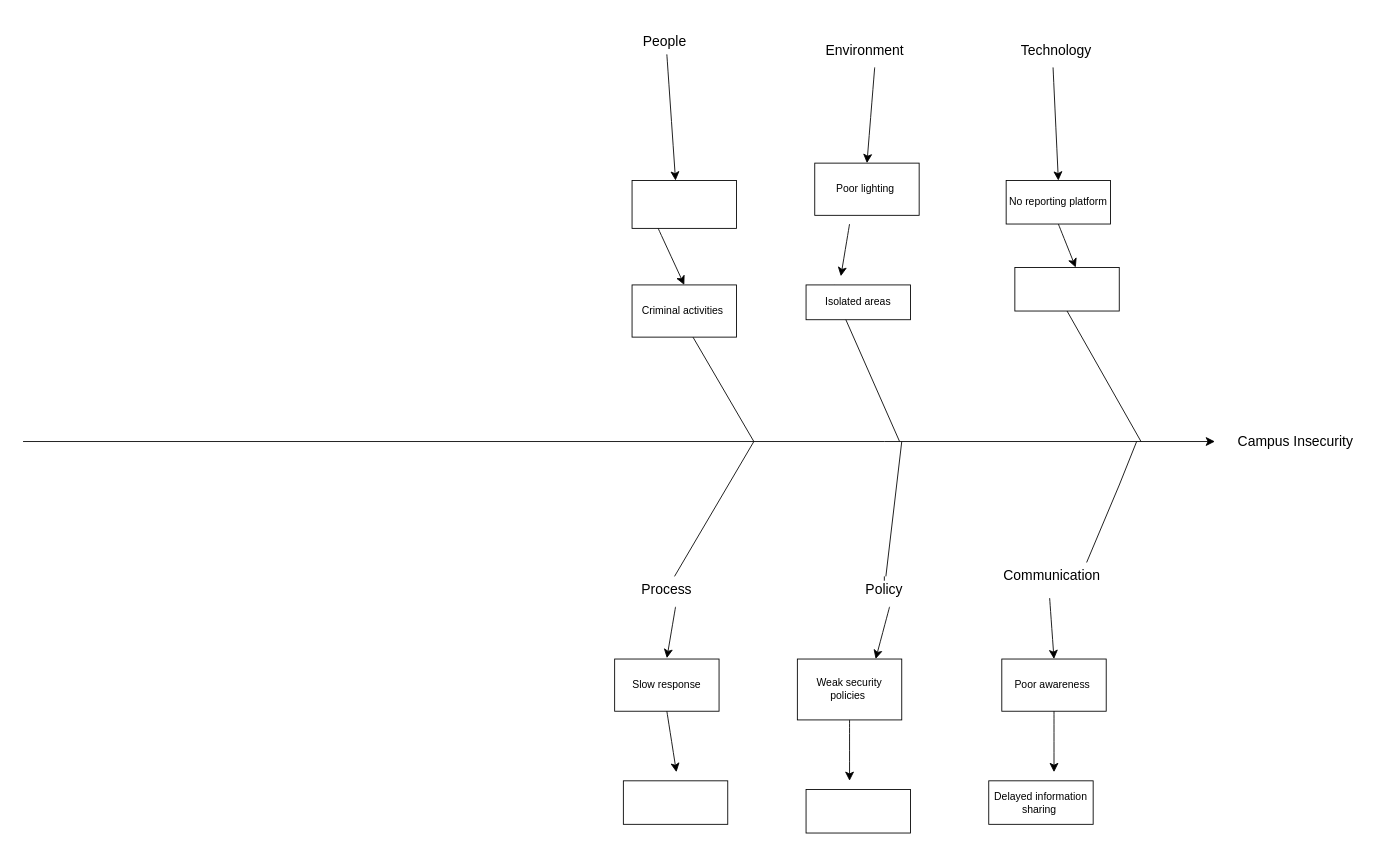
Some shapes in this 1395 by 848 pixel diagram are drawn without their labels. The shapes that lost their labels are listed below. From the top down, each one's centre as x and y in pixels, then its label:
the point at 683,204: Fear of reporting
the point at 1066,289: No real-time Alerts
the point at 675,802: Difficult reporting process
the point at 857,811: Lack of reporting procedures
